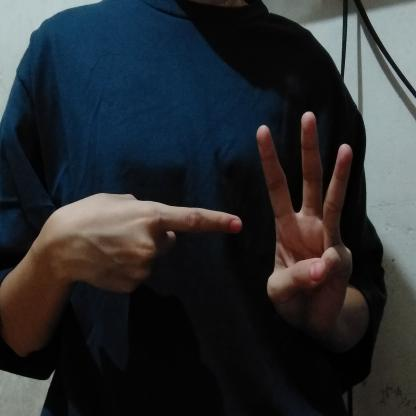why: (41, 103, 367, 358)
